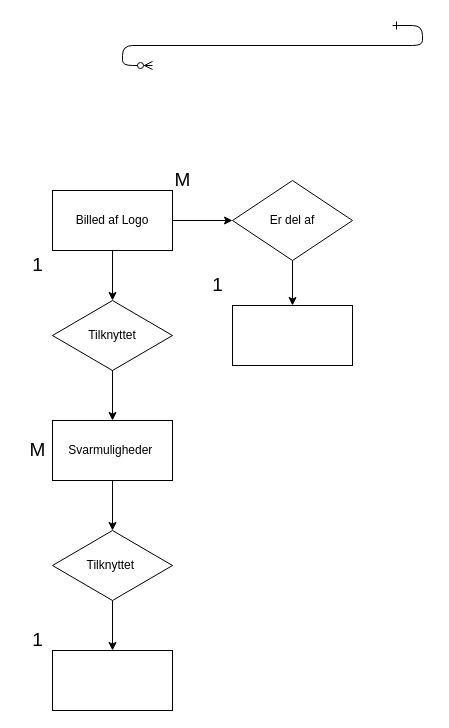
Image size: 449x728. Some labels were removed from this diagram. Each missing label, with the centre of its shape:
Quiz: point 292,335
Værdi (true or false): point 112,680
